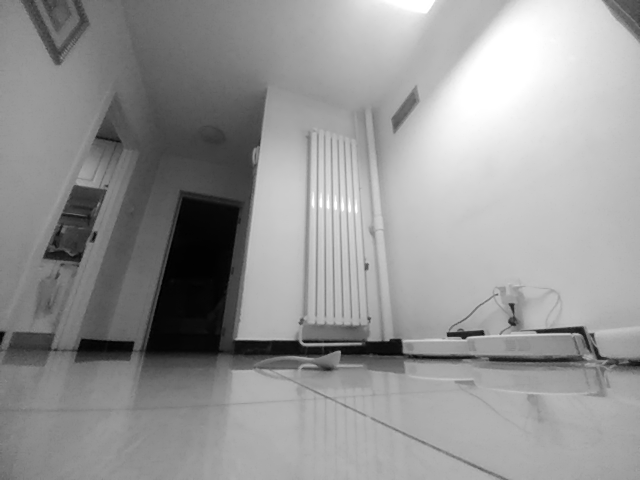others: (254, 348, 342, 373)
